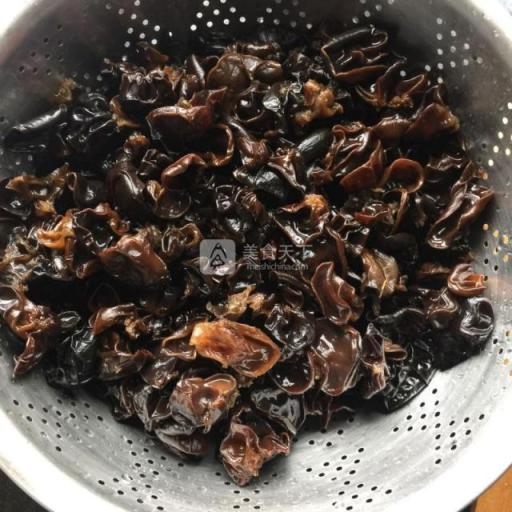Wood Ear Mushroom: (11, 26, 498, 479)
